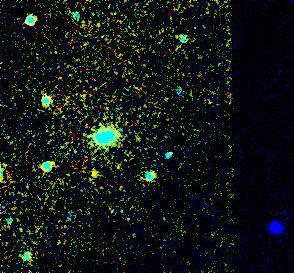star: (81, 159, 111, 189)
